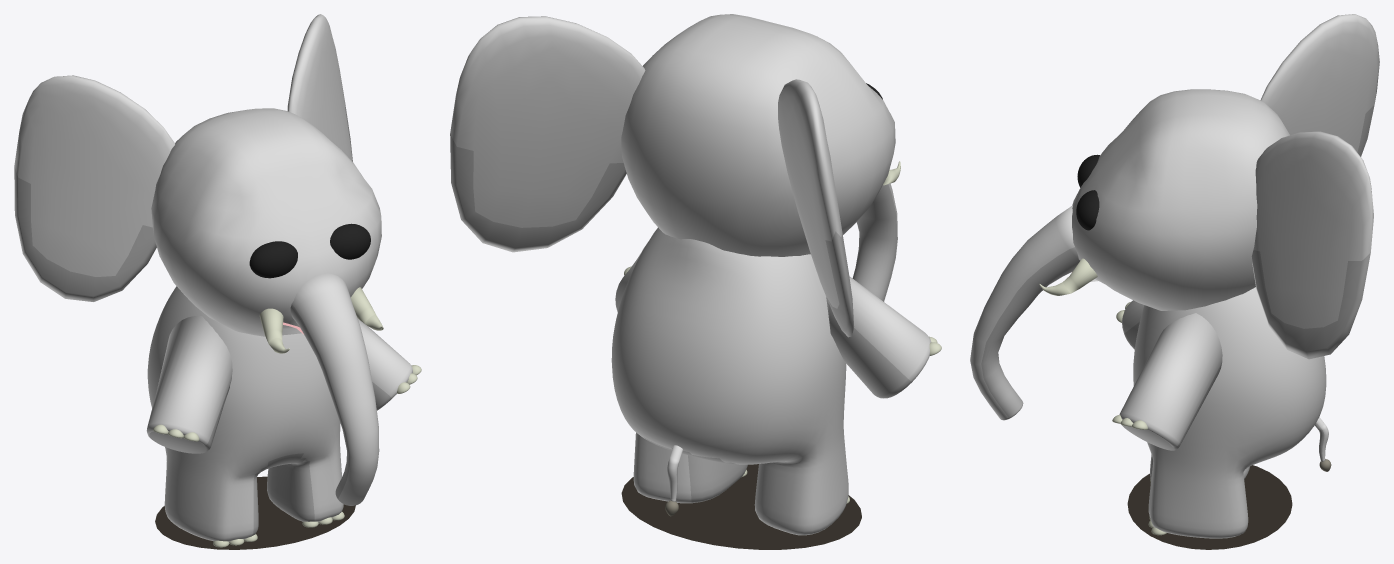
File: ele01.glb
3 views of the same model, side by side, from view 1: azimuth 30°, elevation 25°; view 2: azimuth 150°, elevation 25°; view 3: azimuth 270°, elevation 25° (orthographic). The views are drawn at different scales.
Parts seen in each view (by area): view 1: elehead.001, eleerr.001, elebody.001, elearm.001, elenose.001, eleshadow.001, eleeye.001, elefang.001, elehand.001, elefoot.001; view 2: elebody.001, eleerr.001, elehead.001, eleshadow.001, elearm.001, elenose.001; view 3: elehead.001, eleerr.001, elebody.001, elearm.001, elenose.001, eleshadow.001, eleeye.001, elefang.001.
Boxes of the visible parts, x1=… form: elehead.001: x1=151, y1=108, x2=381, y2=336; eleerr.001: x1=14, y1=14, x2=352, y2=301; elebody.001: x1=147, y1=286, x2=343, y2=541; elearm.001: x1=146, y1=316, x2=412, y2=453; elenose.001: x1=290, y1=273, x2=379, y2=505; eleshadow.001: x1=155, y1=476, x2=355, y2=549; eleeye.001: x1=249, y1=223, x2=370, y2=278; elefang.001: x1=259, y1=287, x2=383, y2=353; elehand.001: x1=153, y1=365, x2=421, y2=441; elefoot.001: x1=213, y1=512, x2=344, y2=547; elebody.001: x1=611, y1=227, x2=848, y2=535; eleerr.001: x1=450, y1=16, x2=854, y2=337; elehead.001: x1=621, y1=14, x2=895, y2=256; eleshadow.001: x1=621, y1=464, x2=861, y2=549; elearm.001: x1=615, y1=242, x2=931, y2=398; elenose.001: x1=852, y1=183, x2=897, y2=301; elehead.001: x1=1072, y1=89, x2=1289, y2=310; eleerr.001: x1=1251, y1=14, x2=1379, y2=359; elebody.001: x1=1133, y1=287, x2=1326, y2=538; elearm.001: x1=1119, y1=300, x2=1222, y2=450; elenose.001: x1=970, y1=205, x2=1079, y2=420; eleshadow.001: x1=1127, y1=465, x2=1292, y2=549; eleeye.001: x1=1076, y1=154, x2=1099, y2=230; elefang.001: x1=1039, y1=258, x2=1097, y2=295.
Size of the model in its own units: 8.69 by 10.56 by 9.15.
